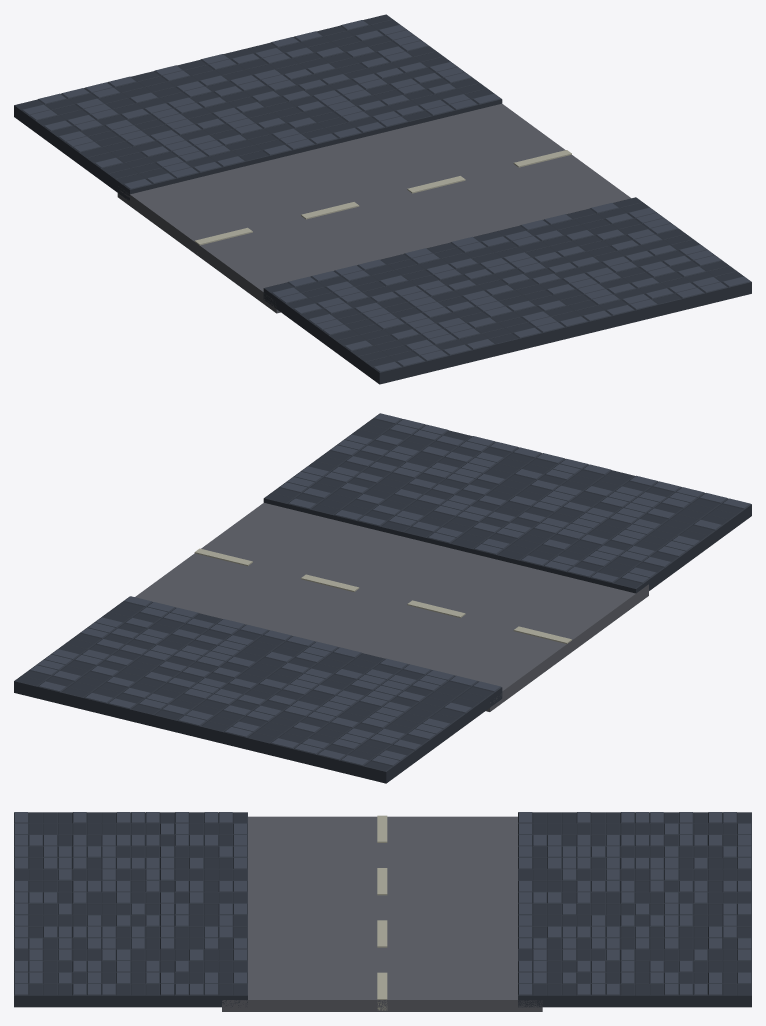
Rendered from roadBerlin.fbx.
3 renders of one model, top to bottom at view 1: azimuth 30°, elevation 25°; view 2: azimuth 150°, elevation 25°; view 3: azimuth 270°, elevation 25°, orthographic.
Parts seen in each view (by area): view 1: Cube.011, Cube.009, Cube.008, Cube.010; view 2: Cube.008, Cube.009, Cube.011, Cube.010; view 3: Cube.009, Cube.008, Cube.011, Cube.010.
Part boxes in pixels (left/top/right/bottom): Cube.011: left=263, top=197, right=751, bottom=384; Cube.009: left=117, top=103, right=630, bottom=313; Cube.008: left=14, top=14, right=502, bottom=200; Cube.010: left=194, top=150, right=571, bottom=252; Cube.008: left=14, top=596, right=502, bottom=783; Cube.009: left=135, top=503, right=648, bottom=711; Cube.011: left=263, top=413, right=751, bottom=593; Cube.010: left=194, top=548, right=571, bottom=643; Cube.009: left=222, top=816, right=542, bottom=1011; Cube.008: left=518, top=812, right=751, bottom=1007; Cube.011: left=14, top=812, right=247, bottom=1007; Cube.010: left=377, top=815, right=387, bottom=1010.
Bounding box in the file's own units: 400 × 17.29 × 680.
